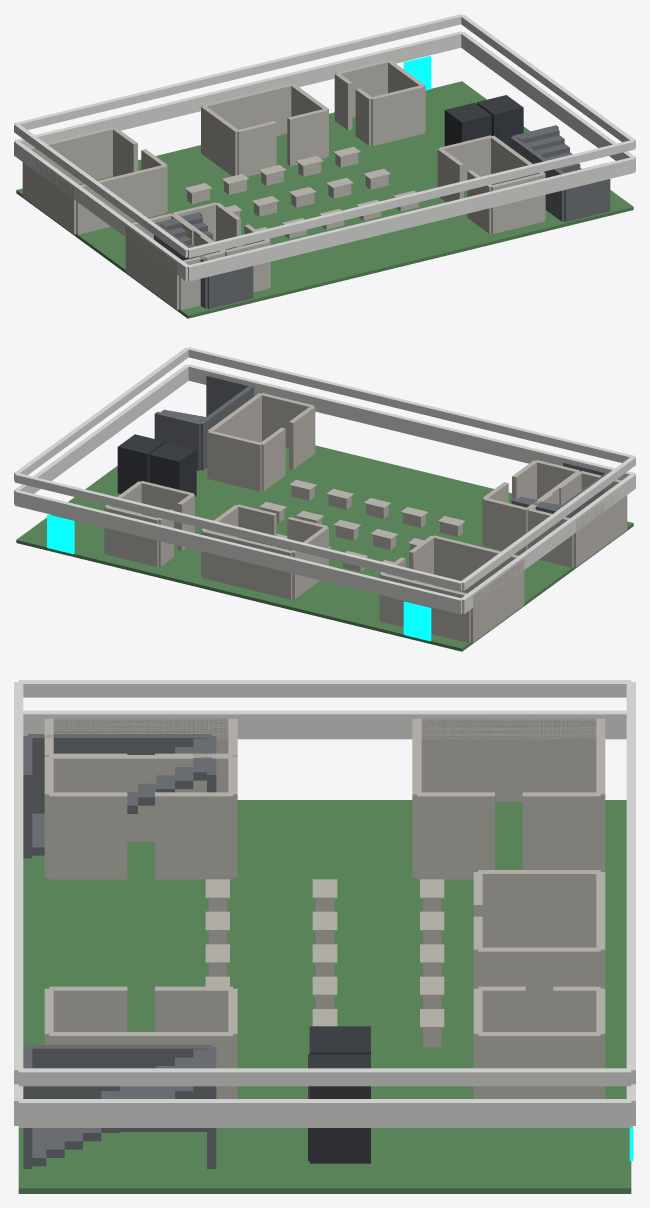
File: Floor_03_Office.fbx
The picture shows the model from 3 angles, top to bottom: view 1: azimuth 30°, elevation 25°; view 2: azimuth 150°, elevation 25°; view 3: azimuth 270°, elevation 25°; orthographic projection. The views are drawn at different scales.
Visible parts, largest first — view 1: F3_Slab, F3_Wall_F, F3_Wall_B, F3_Wall_F_Hdr, F3_Wall_B_Hdr, F3_Conference_S, F3_Wall_R, F3_Wall_L, F3_Pantry_S, F3_ManagerOffice_N, F3_RestroomM_W, F3_Conference_N (+28 smaller); view 2: F3_Slab, F3_Wall_B, F3_Wall_F, F3_Wall_B_Hdr, F3_Wall_F_Hdr, F3_ManagerOffice_N, F3_Wall_R, F3_Wall_L, F3_Storage_N, F3_Conference_W, F3_Conference_N, F3_RestroomM_W (+28 smaller); view 3: F3_Slab, F3_Wall_R, F3_Wall_L, F3_Conference_W, F3_Wall_R_Hdr, F3_Wall_L_Hdr, F3_ManagerOffice_W, F3_RestroomF_E1, F3_RestroomF_E2, F3_Conference_E1, F3_ManagerOffice_E, F3_Conference_E2 (+25 smaller).
Part boxes in pixels (x1,y1,x2,y2): F3_Slab: [16, 81, 633, 318]; F3_Wall_F: [188, 157, 634, 281]; F3_Wall_B: [15, 31, 462, 147]; F3_Wall_F_Hdr: [187, 140, 634, 258]; F3_Wall_B_Hdr: [15, 14, 462, 129]; F3_Conference_S: [76, 165, 166, 234]; F3_Wall_R: [460, 31, 635, 171]; F3_Wall_L: [14, 141, 189, 280]; F3_Pantry_S: [370, 85, 424, 146]; F3_ManagerOffice_N: [202, 83, 291, 135]; F3_RestroomM_W: [125, 226, 179, 309]; F3_Conference_N: [28, 127, 114, 184]; F3_Slab: [16, 445, 633, 651]; F3_Wall_B: [15, 490, 461, 614]; F3_Wall_F: [187, 364, 634, 480]; F3_Wall_B_Hdr: [15, 473, 462, 591]; F3_Wall_F_Hdr: [187, 347, 634, 462]; F3_ManagerOffice_N: [202, 530, 292, 599]; F3_Wall_R: [14, 364, 189, 504]; F3_Wall_L: [460, 474, 635, 613]; F3_Storage_N: [208, 431, 261, 491]; F3_Conference_W: [470, 559, 524, 642]; F3_Conference_N: [380, 573, 470, 643]; F3_RestroomM_W: [573, 491, 627, 567]; F3_Slab: [18, 800, 631, 1193]; F3_Wall_R: [18, 1099, 631, 1127]; F3_Wall_L: [23, 710, 626, 739]; F3_Conference_W: [421, 718, 596, 801]; F3_Wall_R_Hdr: [18, 1068, 631, 1086]; F3_Wall_L_Hdr: [18, 680, 631, 697]; F3_ManagerOffice_W: [478, 870, 600, 947]; F3_RestroomF_E1: [49, 792, 127, 879]; F3_RestroomF_E2: [155, 792, 232, 879]; F3_Conference_E1: [417, 792, 494, 879]; F3_ManagerOffice_E: [478, 947, 600, 1031]; F3_Conference_E2: [522, 792, 600, 869].
Bounding box in the file's own units: 30.3 × 4.45 × 20.3.
